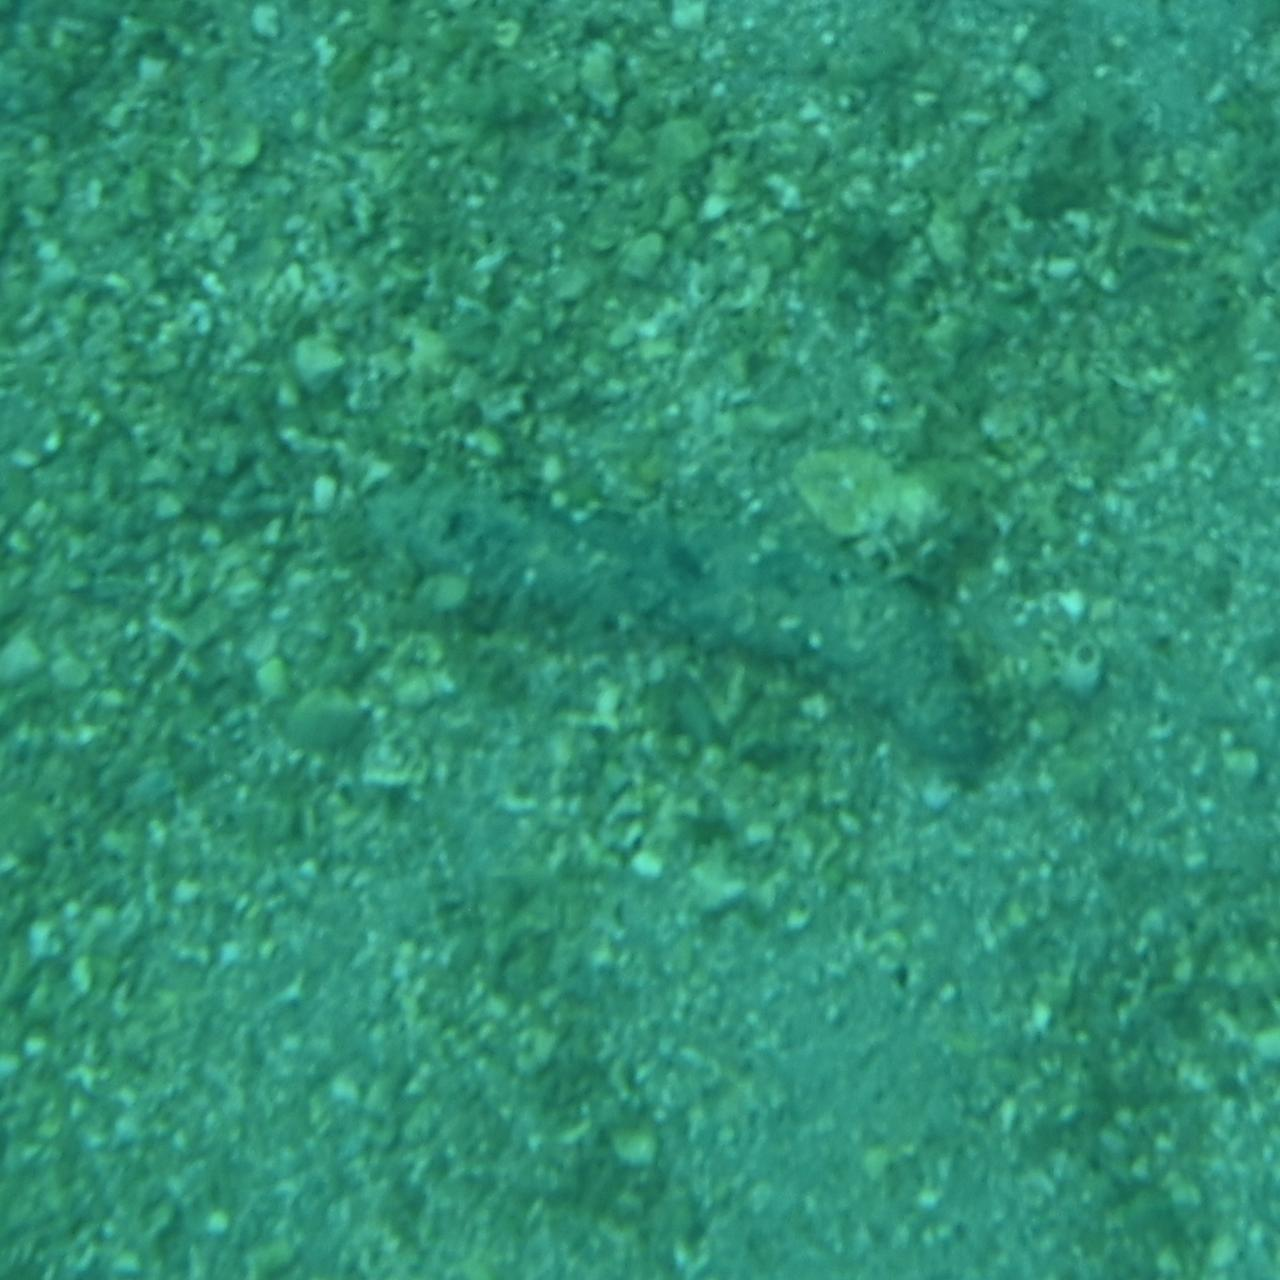Holothuria tubulosa: (262, 488, 1018, 792)
